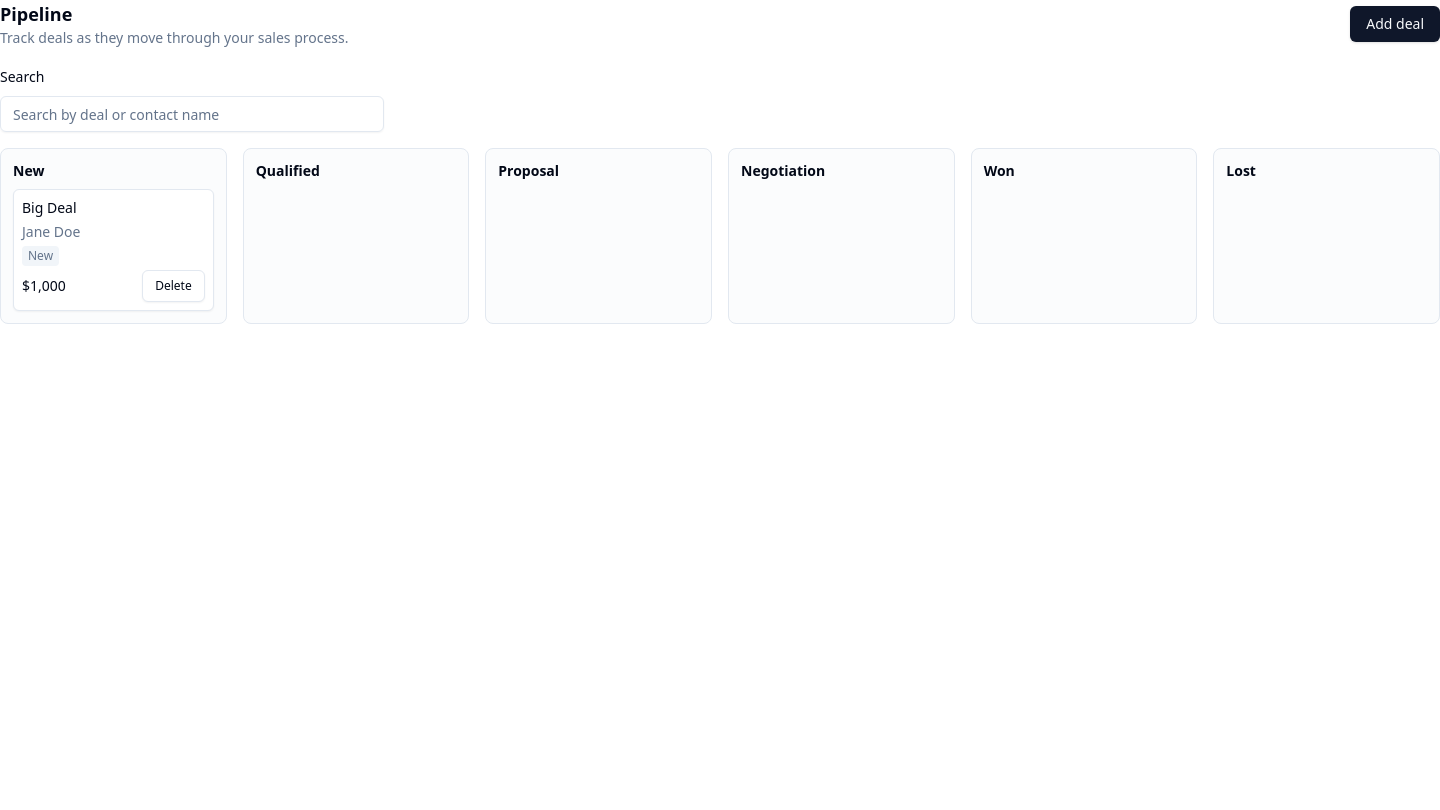
Scenario: PipelinePage › shows a deal's Activity timeline, including stage-change entries
Click the button "Big Deal": (49, 208) [22,198,76,218]
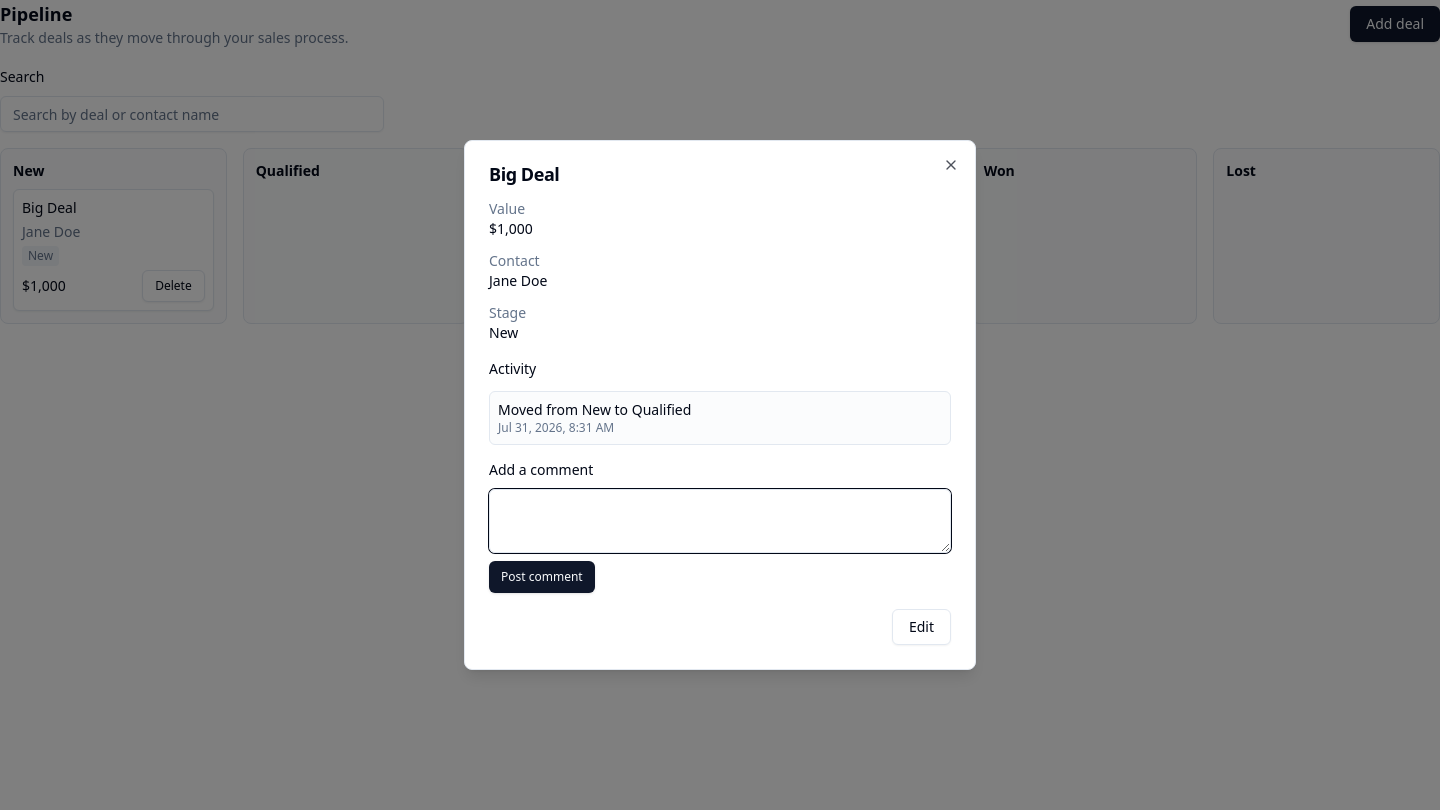
Result: the text "Moved from New to Qualified" is shown at [498,400,691,419]
